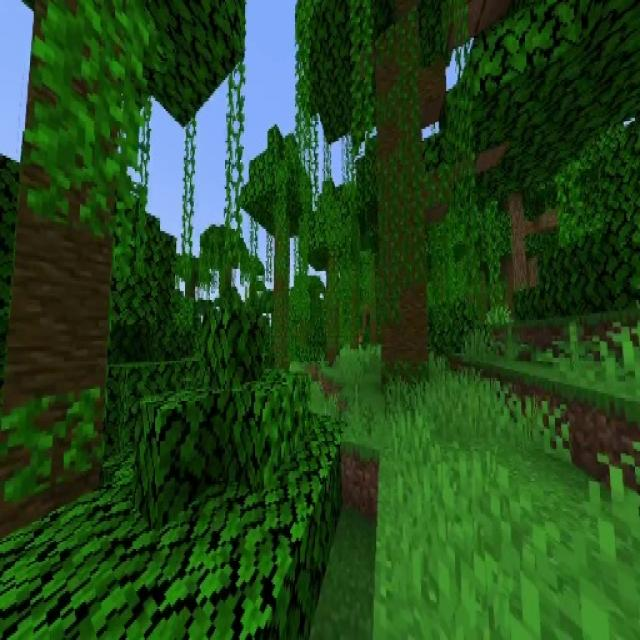jungle: (245, 126, 312, 370), (308, 178, 356, 364)
jungle_log: (4, 3, 117, 509), (372, 3, 432, 392), (274, 219, 290, 370)
oak_log: (507, 197, 528, 295), (325, 257, 338, 364)
